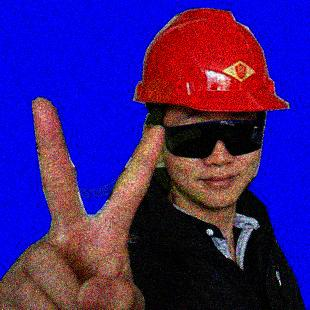helmet: (131, 6, 292, 208)
